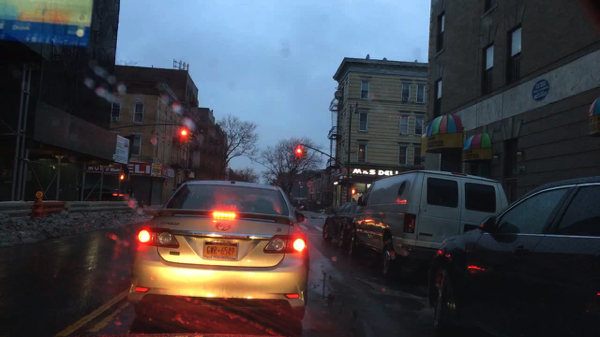car: (427, 175, 599, 337), (130, 178, 311, 322), (348, 169, 509, 279), (322, 201, 359, 249)
traffic light: (178, 127, 190, 141), (293, 144, 305, 158), (188, 131, 195, 145), (118, 173, 125, 181), (350, 187, 355, 195)
traffic sign: (340, 173, 353, 180), (306, 181, 313, 187)
